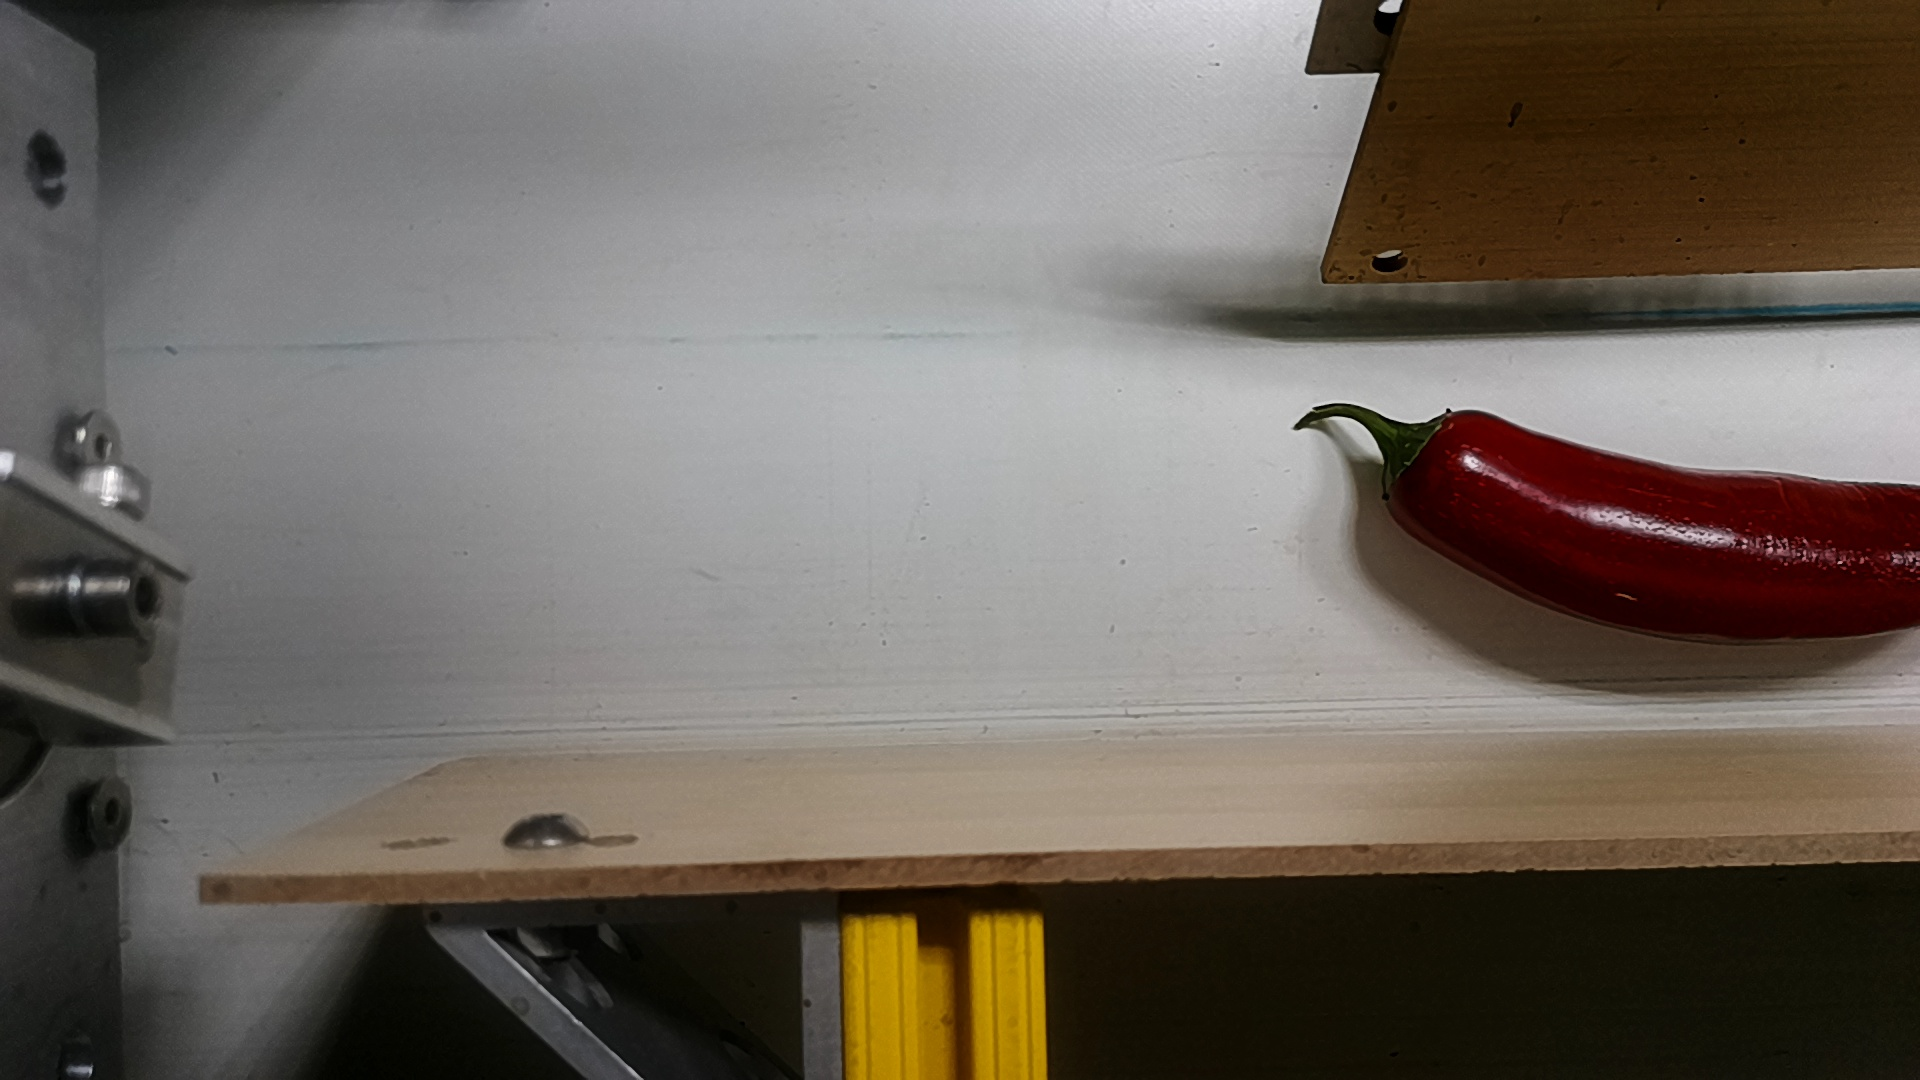Cut Point: (1371, 392, 1487, 539)
